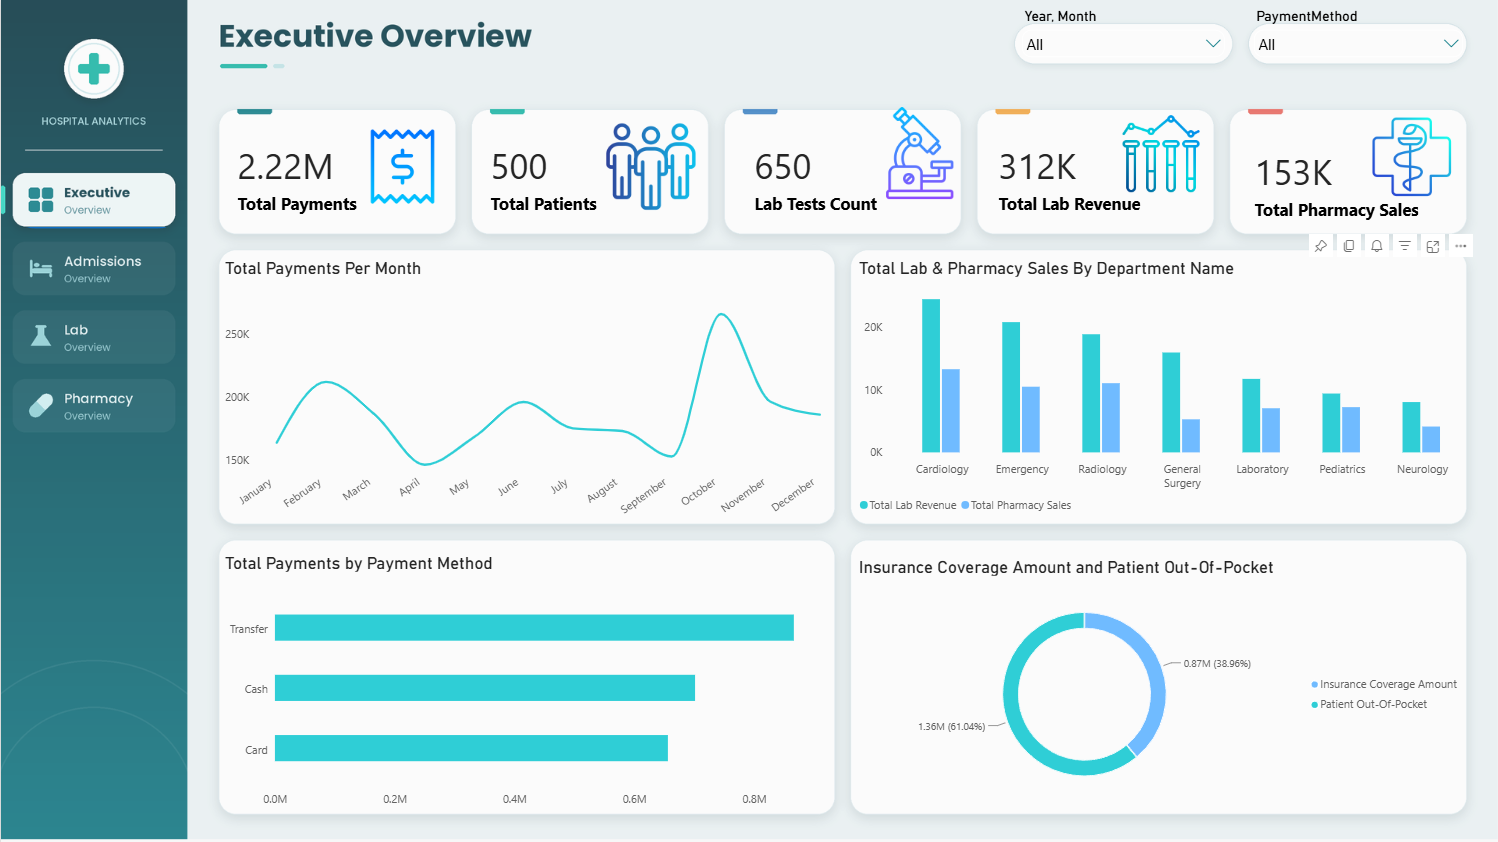

The page's visual inventory and layout, read from the dashboard file:
{"tool":"powerbi","page":{"name":"Executive Overview","canvas":[1920,1080],"ordinal":0},"visuals":[{"type":"cardVisual","fields":{"Data":["Dax_measures.Total Payments"]},"box":[287.5,134.4,323.6,190.7],"z":0},{"type":"cardVisual","fields":{"Data":["Dax_measures.Total Patients"]},"box":[611.1,134.4,319.3,190.7],"z":1000},{"type":"cardVisual","fields":{"Data":["Dax_measures.Lab Tests Count"]},"box":[950.6,134.4,312.1,190.7],"z":2000},{"type":"cardVisual","fields":{"Data":["Dax_measures.Total Lab Revenue"]},"box":[1262.7,134.4,312.1,190.7],"z":3000},{"type":"cardVisual","fields":{"Data":["Dax_measures.Total Pharmacy Sales"]},"box":[1590.7,141.7,314.9,190.7],"z":4000},{"type":"donutChart","fields":{"Y":["Dax_measures.Insurance Coverage Amount","Dax_measures.Patient Out-Of-Pocket"]},"box":[1117.9,742.6,776,311.8],"z":5000},{"type":"barChart","title":"Total Payments by Payment Method","fields":{"Category":["fact_payment.PaymentMethod"],"Y":["Dax_measures.Total Payments"]},"box":[301.7,742.6,771.6,312.9],"z":6000},{"type":"clusteredColumnChart","title":"Total Lab & Pharmacy Sales By Department Name","fields":{"Category":["dim_departments.DepartmentName"],"Y":["Dax_measures.Total Lab Revenue","Dax_measures.Total Pharmacy Sales"]},"box":[1118.4,376.5,801.6,316.8],"z":7000},{"type":"lineChart","title":"Total Payments Per Month","fields":{"Category":["DimDate.Date.Variation.Date Hierarchy.Month"],"Y":["Dax_measures.Total Payments"]},"box":[301.5,376.5,805.8,316.8],"z":8000},{"type":"slicer","fields":{"Values":["DimDate.Date.Variation.Date Hierarchy.Year","DimDate.Date.Variation.Date Hierarchy.Month"]},"box":[1282.9,27.4,291.8,65],"z":9000},{"type":"pageNavigator","box":[10.1,247,262.9,645.8],"z":10000},{"type":"slicer","fields":{"Values":["fact_payment.PaymentMethod"]},"box":[1602.2,27.4,291.8,65],"z":11000},{"type":"image","box":[430.7,154.2,181.5,133.8],"z":12000},{"type":"image","box":[758.6,154.2,161.7,133.8],"z":13000},{"type":"image","box":[1118.4,141.7,135.2,141.8],"z":14000},{"type":"image","box":[1450.5,150.5,139.6,113.2],"z":15000},{"type":"image","box":[1778,154.1,142,121.6],"z":16000}]}

Visuals, with their boxes on the page's 1920x1080 design canvas (x1, y1, x2, y2). These are canvas units, not pixel positions in the 1498x842 screenshot, which may show the page scaled, cropped or inside an application window:
cardVisual - Dax_measures.Total Payments: locate(288, 134, 611, 325)
cardVisual - Dax_measures.Total Patients: locate(611, 134, 930, 325)
cardVisual - Dax_measures.Lab Tests Count: locate(951, 134, 1263, 325)
cardVisual - Dax_measures.Total Lab Revenue: locate(1263, 134, 1575, 325)
cardVisual - Dax_measures.Total Pharmacy Sales: locate(1591, 142, 1906, 332)
donutChart - Dax_measures.Insurance Coverage Amount x Dax_measures.Patient Out-Of-Pocket: locate(1118, 743, 1894, 1054)
"Total Payments by Payment Method" barChart: locate(302, 743, 1073, 1056)
"Total Lab & Pharmacy Sales By Department Name" clusteredColumnChart: locate(1118, 376, 1920, 693)
"Total Payments Per Month" lineChart: locate(302, 376, 1107, 693)
slicer - DimDate.Date.Variation.Date Hierarchy.Year x DimDate.Date.Variation.Date Hierarchy.Month: locate(1283, 27, 1575, 92)
pageNavigator: locate(10, 247, 273, 893)
slicer - fact_payment.PaymentMethod: locate(1602, 27, 1894, 92)
image: locate(431, 154, 612, 288)
image: locate(759, 154, 920, 288)
image: locate(1118, 142, 1254, 284)
image: locate(1450, 150, 1590, 264)
image: locate(1778, 154, 1920, 276)
